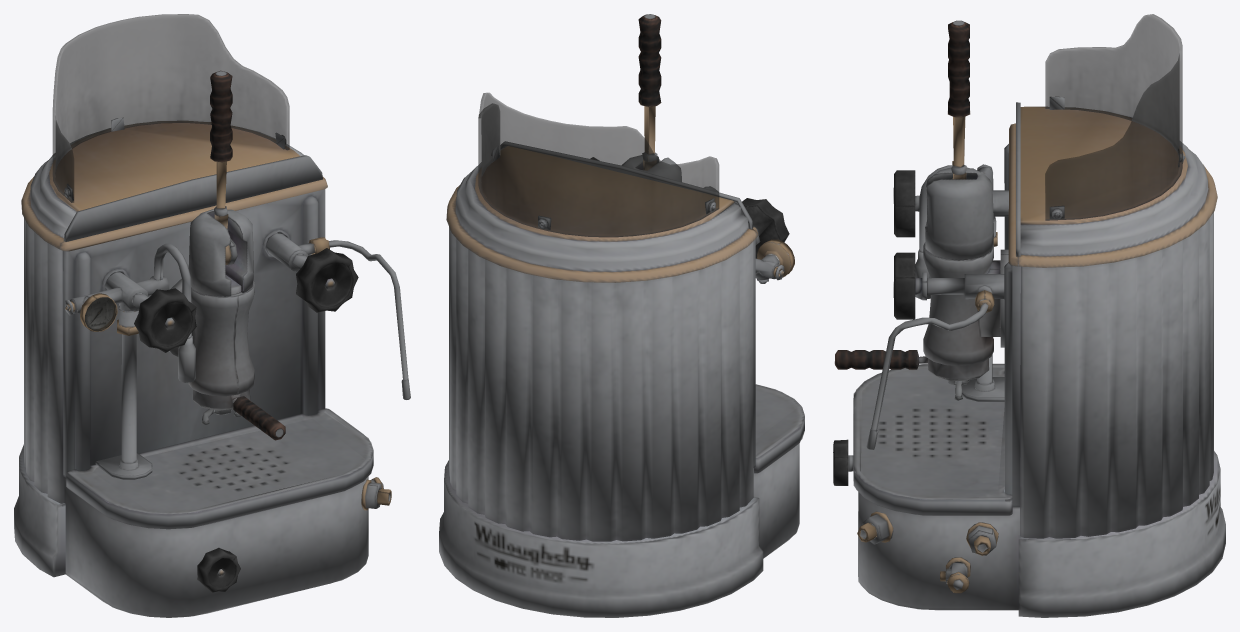
Rendered from espresso-machine.glb.
3 renders of one model, left to right at view 1: azimuth 30°, elevation 25°; view 2: azimuth 150°, elevation 25°; view 3: azimuth 270°, elevation 25°, orthographic. The views are drawn at different scales.
Parts seen in each view (by area): view 1: wgsby-cm1-base_wgsby-cm1-mat_0; view 2: wgsby-cm1-base_wgsby-cm1-mat_0; view 3: wgsby-cm1-base_wgsby-cm1-mat_0.
Boxes of the visible parts, x1,y1,x2,y2 form: wgsby-cm1-base_wgsby-cm1-mat_0: (14,14,410,617); wgsby-cm1-base_wgsby-cm1-mat_0: (439,14,804,617); wgsby-cm1-base_wgsby-cm1-mat_0: (833,14,1225,617).
Size of the model in its own units: 46.17 by 71.36 by 48.69.
1 material, 1 textured.
